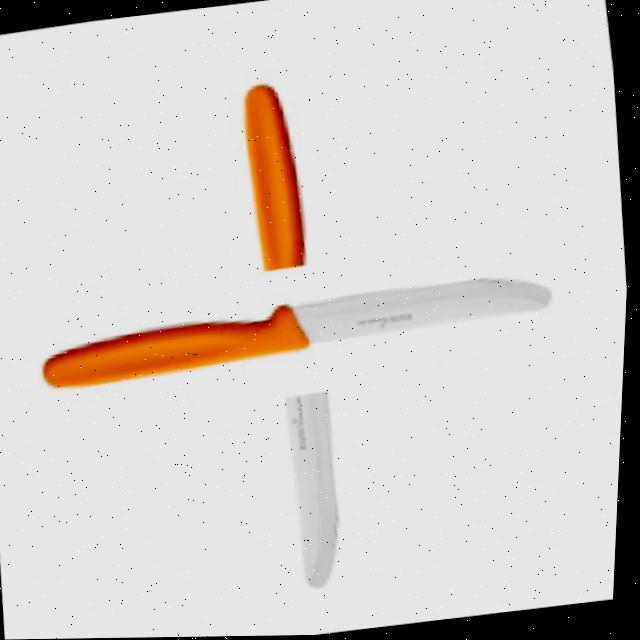knife: (218, 76, 369, 597), (35, 268, 559, 396)
